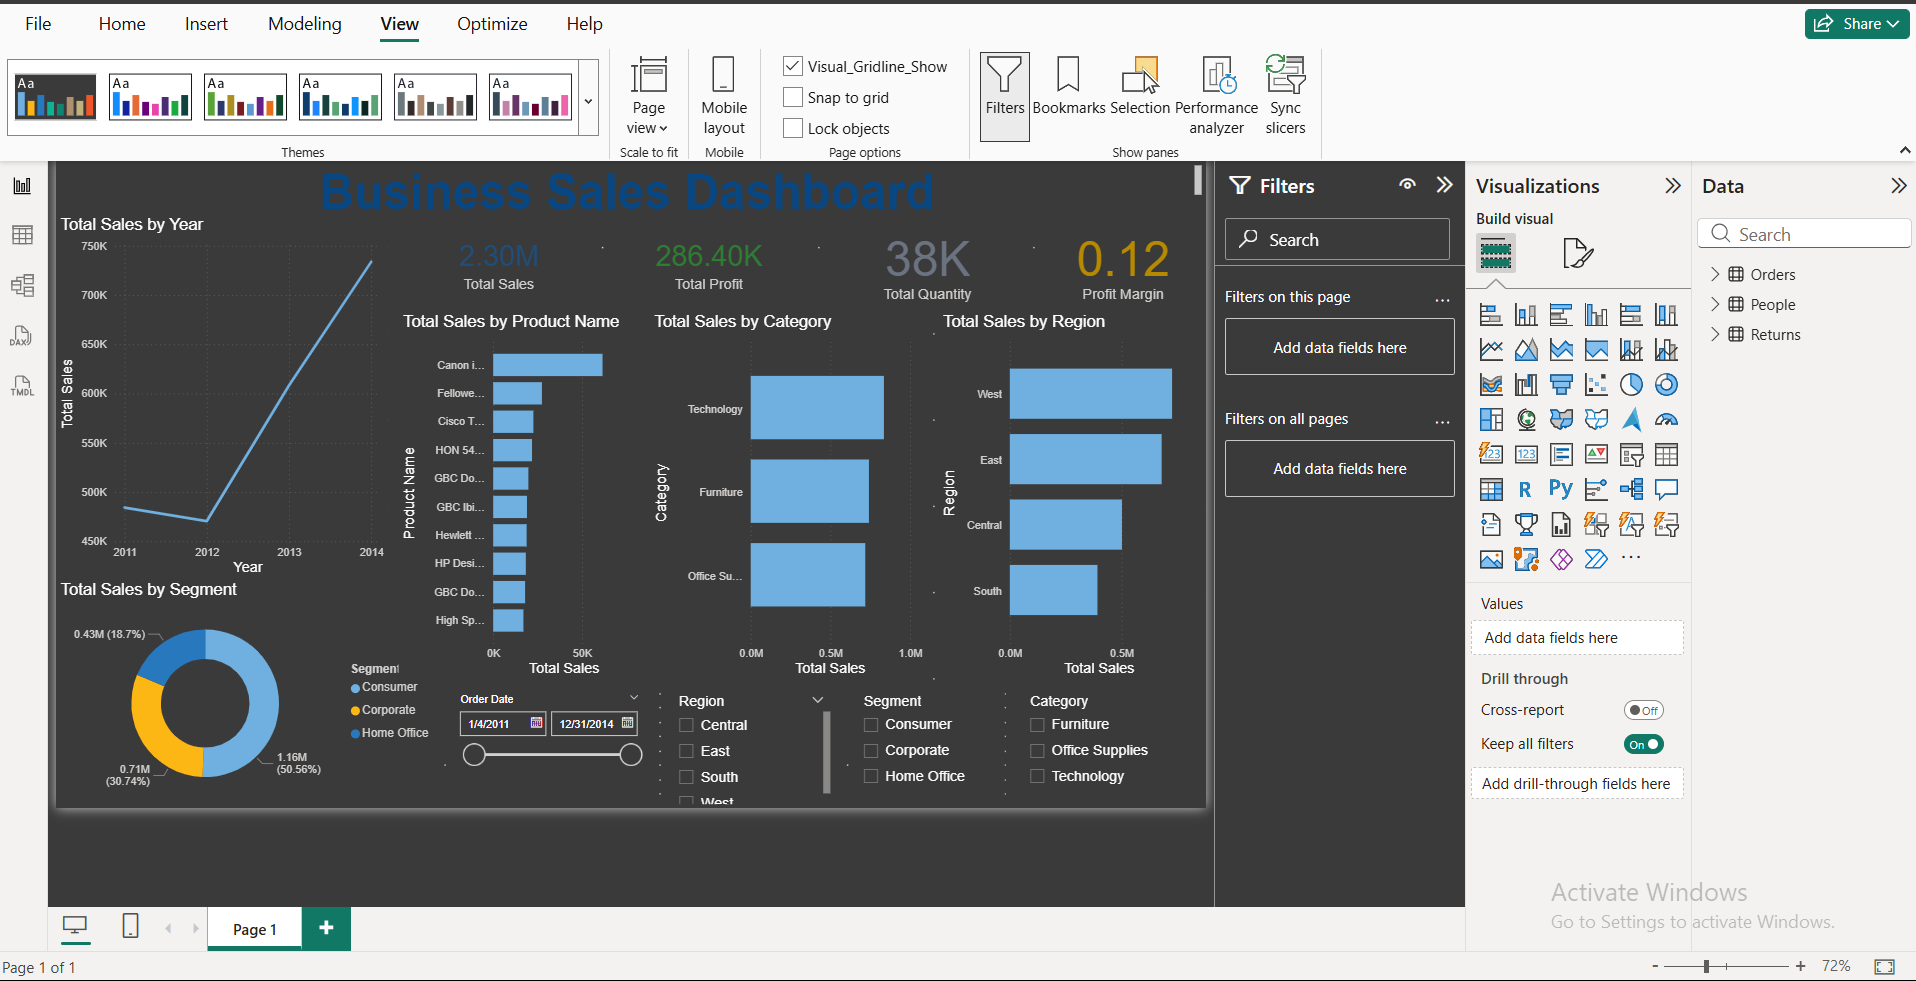

What the dashboard file says about the page in this screenshot:
{"tool":"powerbi","page":{"name":"Page 1","canvas":[1280,720],"ordinal":0},"visuals":[{"type":"card","title":"Profit Margin","fields":{"Values":["Orders.Profit Margin"]},"box":[1096.3,0,183.7,108.5],"z":0},{"type":"card","title":"Total Quantity","fields":{"Values":["Orders.Total Quantity"]},"box":[866.8,0,229.6,108.5],"z":1000},{"type":"card","fields":{"Values":["Orders.Total Sales"]},"box":[455,0,224,122.4],"z":2000},{"type":"card","fields":{"Values":["Orders.Total Profit"]},"box":[660.9,0,224,108.5],"z":3000},{"type":"lineChart","fields":{"Category":["Orders.Order Date.Variation.Date Hierarchy.Year","Orders.Order Date.Variation.Date Hierarchy.Quarter","Orders.Order Date.Variation.Date Hierarchy.Month","Orders.Order Date.Variation.Date Hierarchy.Day"],"Y":["Orders.Total Sales"]},"box":[11.1,9.7,370.1,423],"z":4000},{"type":"clusteredBarChart","fields":{"Y":["Orders.Total Sales"],"Category":["Orders.Category"]},"box":[660.9,108.5,308.9,424.3],"z":4001},{"type":"clusteredBarChart","fields":{"Category":["Orders.Region"],"Y":["Orders.Total Sales"]},"box":[982.3,108.5,297.7,424.3],"z":4002},{"type":"donutChart","fields":{"Category":["Orders.Segment"],"Y":["Orders.Total Sales"]},"box":[11.1,442.4,428.5,254.6],"z":4003},{"type":"slicer","fields":{"Values":["Orders.Order Date"]},"box":[455,545.4,224,151.7],"z":4004},{"type":"slicer","fields":{"Values":["Orders.Region"]},"box":[698.4,545.4,186.4,151.7],"z":4005},{"type":"slicer","fields":{"Values":["Orders.Segment"]},"box":[884.9,563.5,169.7,148.9],"z":4006},{"type":"slicer","fields":{"Values":["Orders.Category"]},"box":[1040.7,563.5,208.7,133.6],"z":4007},{"type":"clusteredBarChart","fields":{"Category":["Orders.Product Name"],"Y":["Orders.Total Sales"]},"box":[381.2,122.4,279.7,410.4],"z":4008}]}

Visuals, with their boxes on the page's 1280x720 design canvas (x1, y1, x2, y2). These are canvas units, not pixel positions in the 1916x981 screenshot, which may show the page scaled, cropped or inside an application window:
"Profit Margin" card: (x1=1096, y1=0, x2=1280, y2=108)
"Total Quantity" card: (x1=867, y1=0, x2=1096, y2=108)
card - Orders.Total Sales: (x1=455, y1=0, x2=679, y2=122)
card - Orders.Total Profit: (x1=661, y1=0, x2=885, y2=108)
lineChart - Orders.Order Date.Variation.Date Hierarchy.Year x Orders.Order Date.Variation.Date Hierarchy.Quarter: (x1=11, y1=10, x2=381, y2=433)
clusteredBarChart - Orders.Total Sales x Orders.Category: (x1=661, y1=108, x2=970, y2=533)
clusteredBarChart - Orders.Region x Orders.Total Sales: (x1=982, y1=108, x2=1280, y2=533)
donutChart - Orders.Segment x Orders.Total Sales: (x1=11, y1=442, x2=440, y2=697)
slicer - Orders.Order Date: (x1=455, y1=545, x2=679, y2=697)
slicer - Orders.Region: (x1=698, y1=545, x2=885, y2=697)
slicer - Orders.Segment: (x1=885, y1=564, x2=1055, y2=712)
slicer - Orders.Category: (x1=1041, y1=564, x2=1249, y2=697)
clusteredBarChart - Orders.Product Name x Orders.Total Sales: (x1=381, y1=122, x2=661, y2=533)
